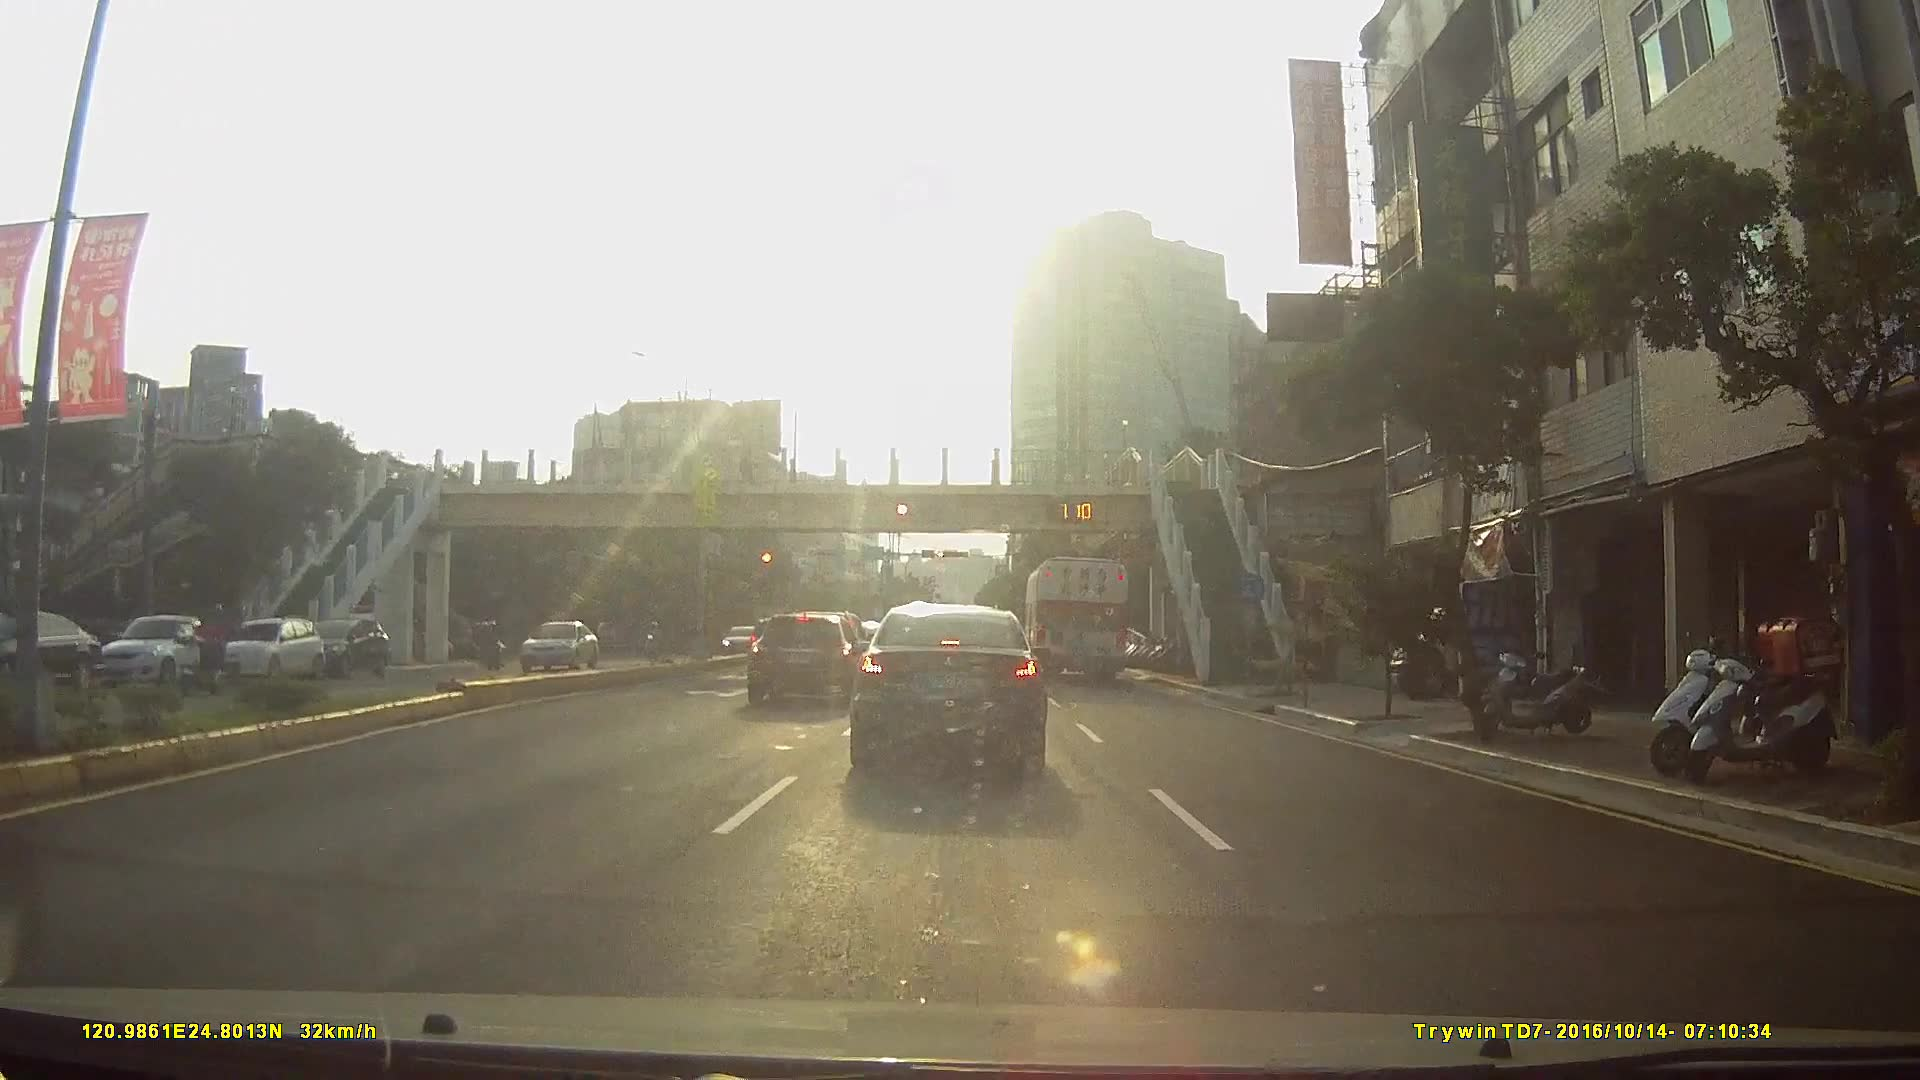rider: (159, 602, 234, 702)
vehicle: (844, 599, 1049, 774), (1023, 551, 1132, 682), (740, 607, 865, 705), (89, 612, 222, 688), (0, 608, 100, 690), (210, 615, 323, 681), (300, 616, 388, 677), (509, 618, 593, 673), (718, 624, 757, 656)
